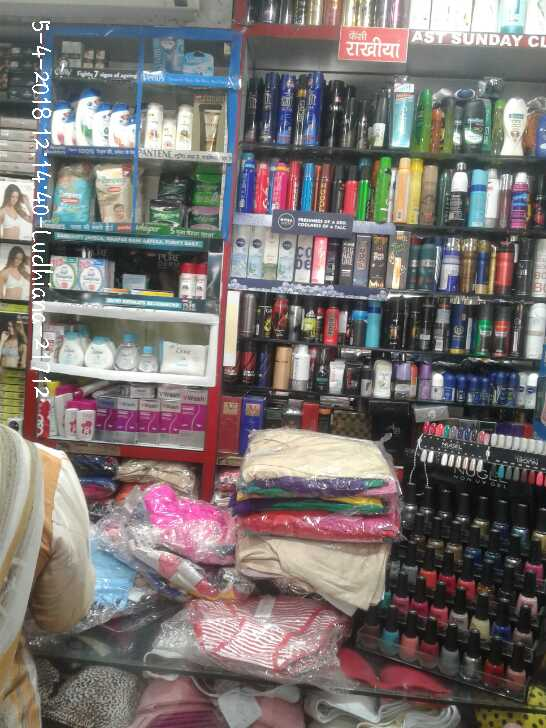venus: (154, 36, 185, 73), (185, 49, 214, 73)
